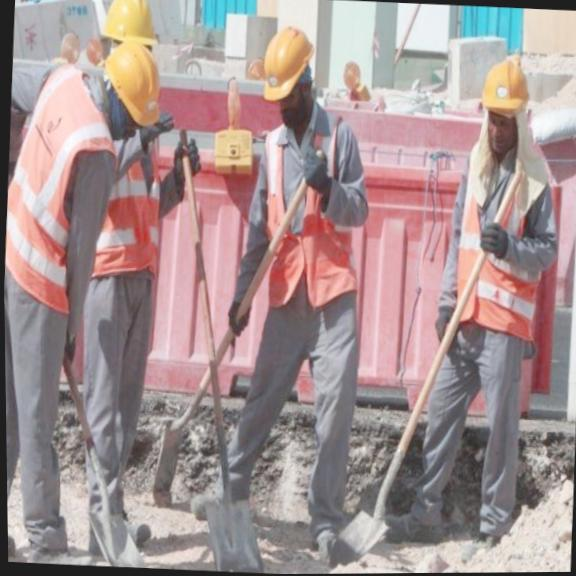safety_vest: (445, 149, 553, 331), (2, 105, 108, 287), (266, 107, 349, 303), (95, 140, 165, 276)
